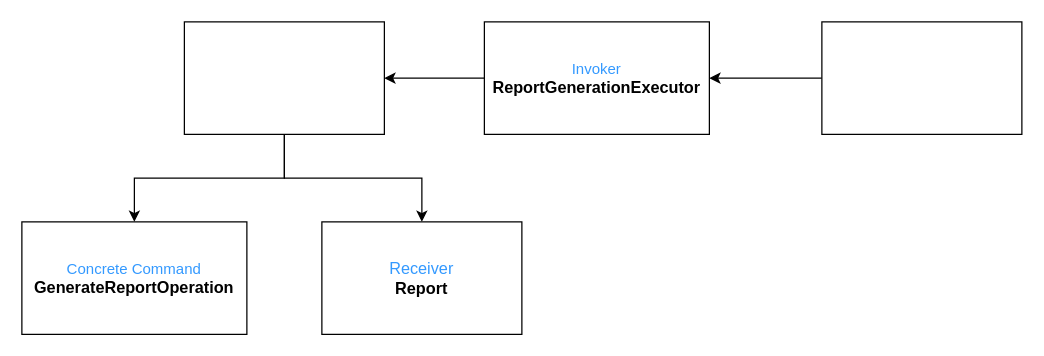
The diagram is 1044 pixels wide and 356 high, and some of its shapes have lost their labels. Here are the shapes that lost their labels. From the top down, the box of each, then its label:
(183, 21, 384, 134): <interface> Command ReportOperation
(821, 21, 1022, 134): ClientApplication
